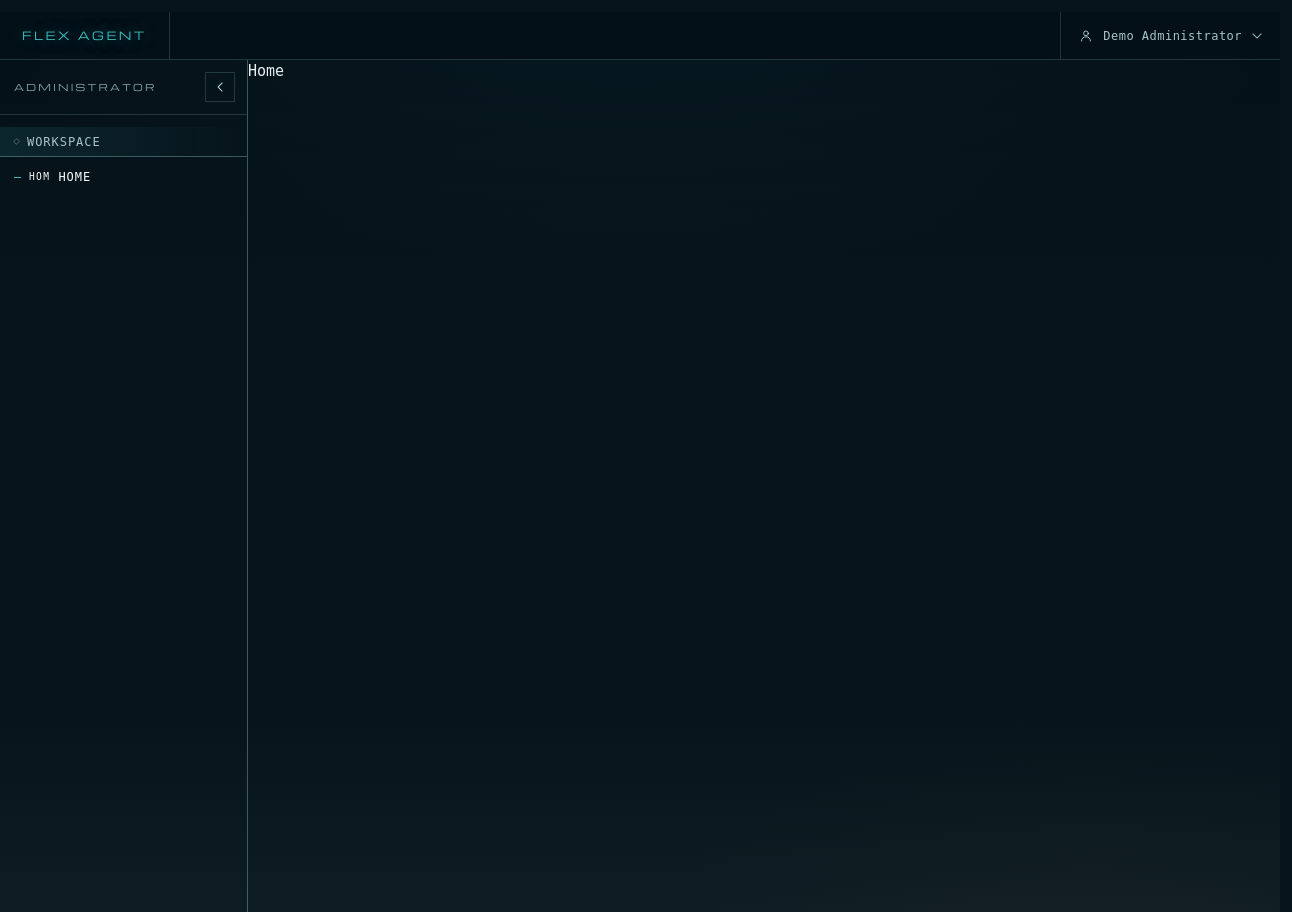
Test: ProductionAppShell operator disclosure › keeps theme and sign-out in the operator menu instead of the command strip
Expected: the text "Demo Administrator" is shown, [1103, 28, 1242, 42]
Expected: the button "Sign out" is not shown
Step 1. Click the button with aria-label "operator menu" → {"x": 1170, "y": 36}, box [1060, 12, 1280, 59]
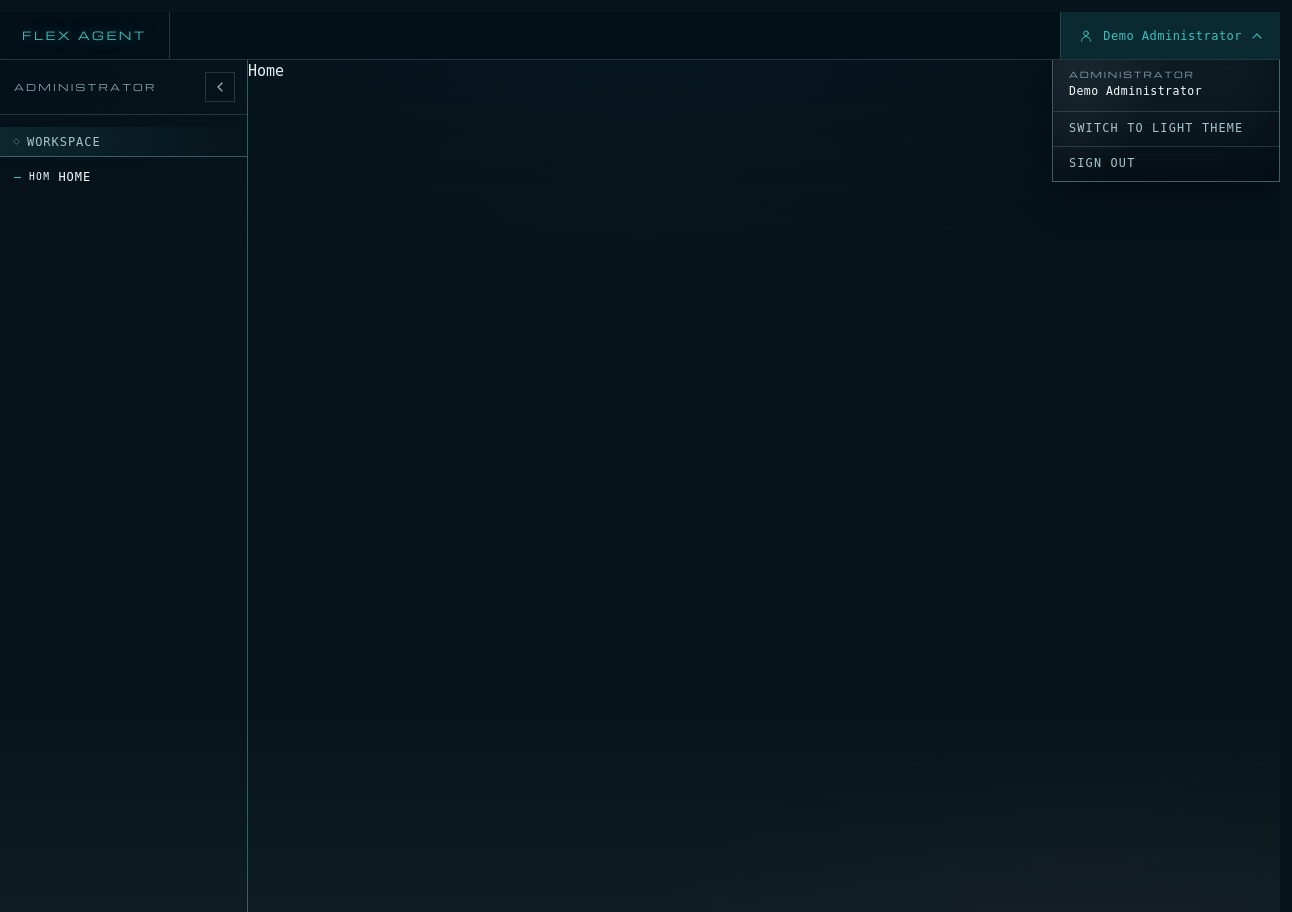
Now the menu item "Switch to light theme" is shown, box [1053, 112, 1279, 146]
Now the menu item "Sign out" is shown, box [1053, 147, 1279, 181]
Now the text with class "strip-profile-role" reads "Administrator", box [1069, 68, 1195, 80]
